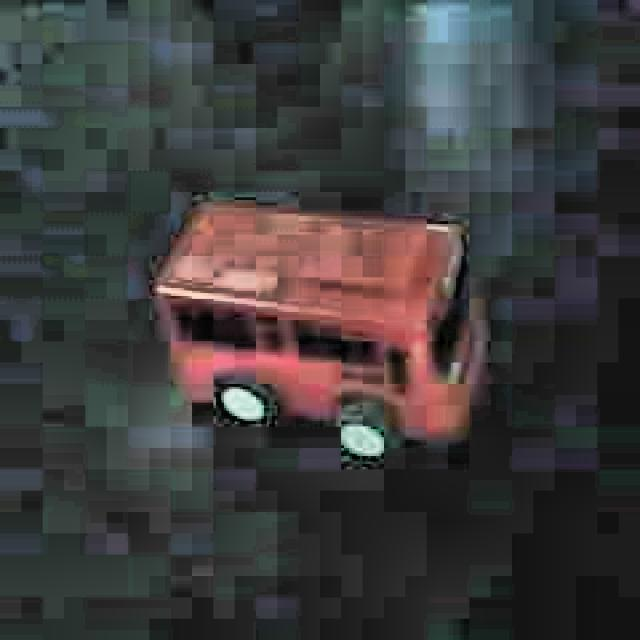bus: (145, 185, 493, 476)
